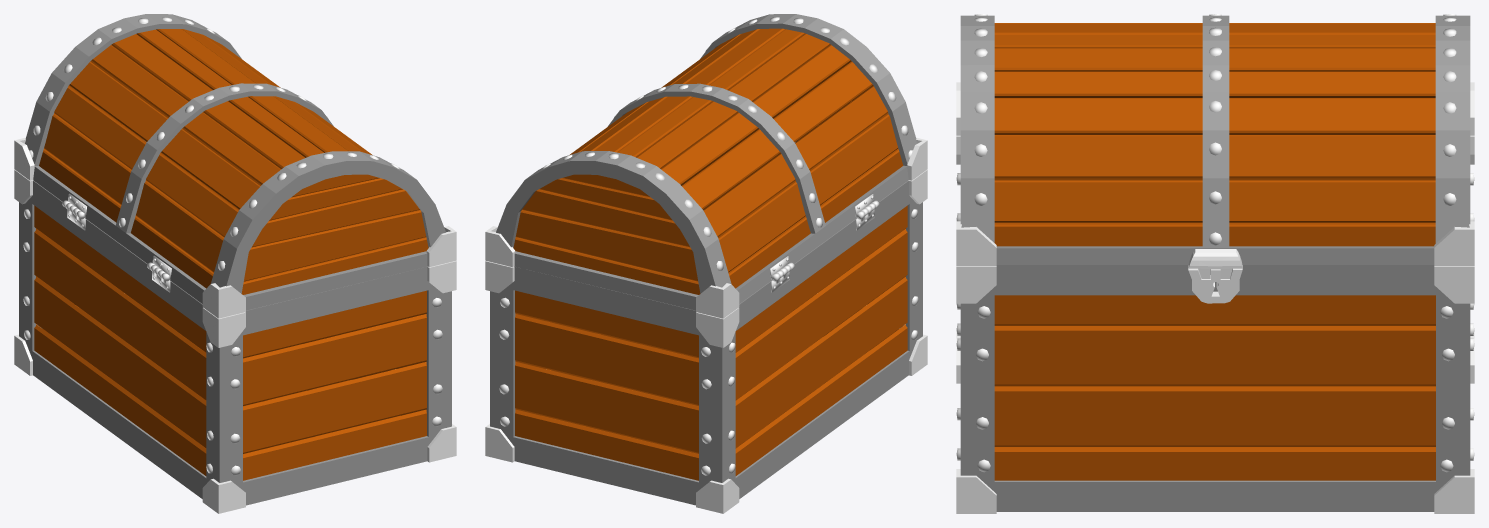
The model's file is ChestShortRoundTop.fbx.
3 views of the same model, side by side, from view 1: azimuth 30°, elevation 25°; view 2: azimuth 150°, elevation 25°; view 3: azimuth 270°, elevation 25° (orthographic). The views are drawn at different scales.
Parts seen in each view (by area): view 1: ChestShortRoundTop_LOD0; view 2: ChestShortRoundTop_LOD0; view 3: ChestShortRoundTop_LOD0.
Part boxes in pixels (box(x1,y1,x2,y2)): ChestShortRoundTop_LOD0: box(14, 14, 456, 513); ChestShortRoundTop_LOD0: box(485, 14, 927, 513); ChestShortRoundTop_LOD0: box(956, 14, 1474, 513).
Size of what is drawn, in the model's own units: 378 by 476 by 543.
